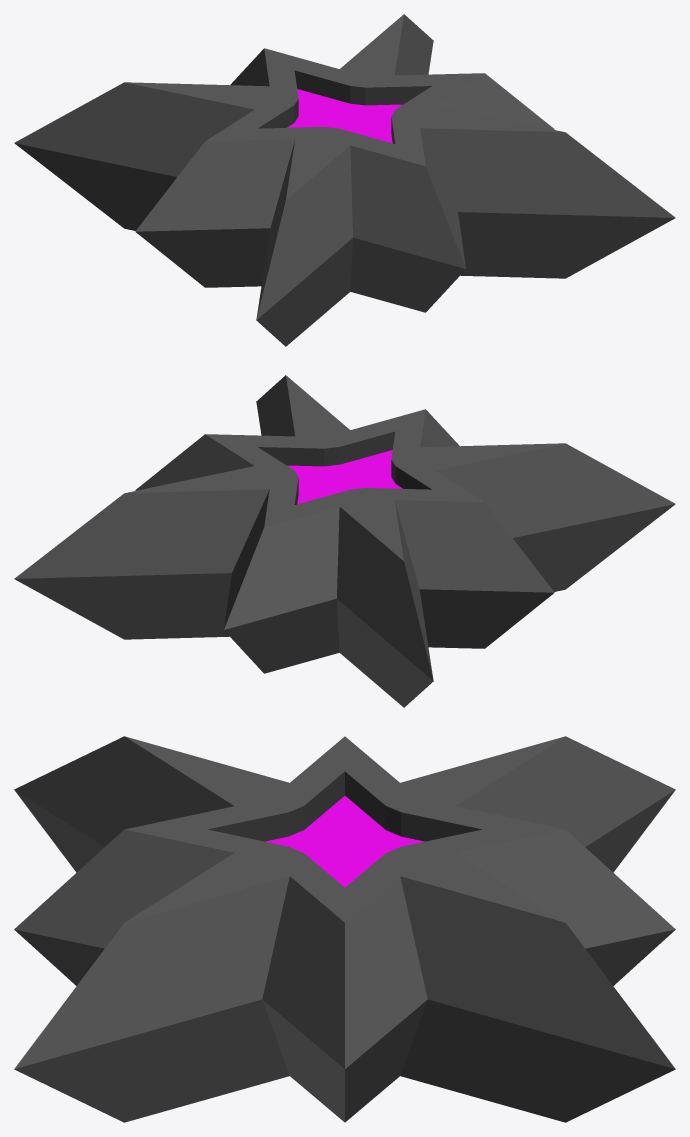
Rendered from gear.glb.
3 views of the same model, one above another, from view 1: azimuth 30°, elevation 25°; view 2: azimuth 150°, elevation 25°; view 3: azimuth 270°, elevation 25° (orthographic). The views are drawn at different scales.
Visible parts, largest first — view 1: Cube; view 2: Cube; view 3: Cube.
Part boxes in pixels (box(x1,y1,x2,y2)): Cube: box(14, 14, 675, 346); Cube: box(14, 375, 675, 707); Cube: box(14, 736, 675, 1122).
Size of the model in its own units: 3 by 1 by 3.
Materials: 1 (1 with a texture image).
